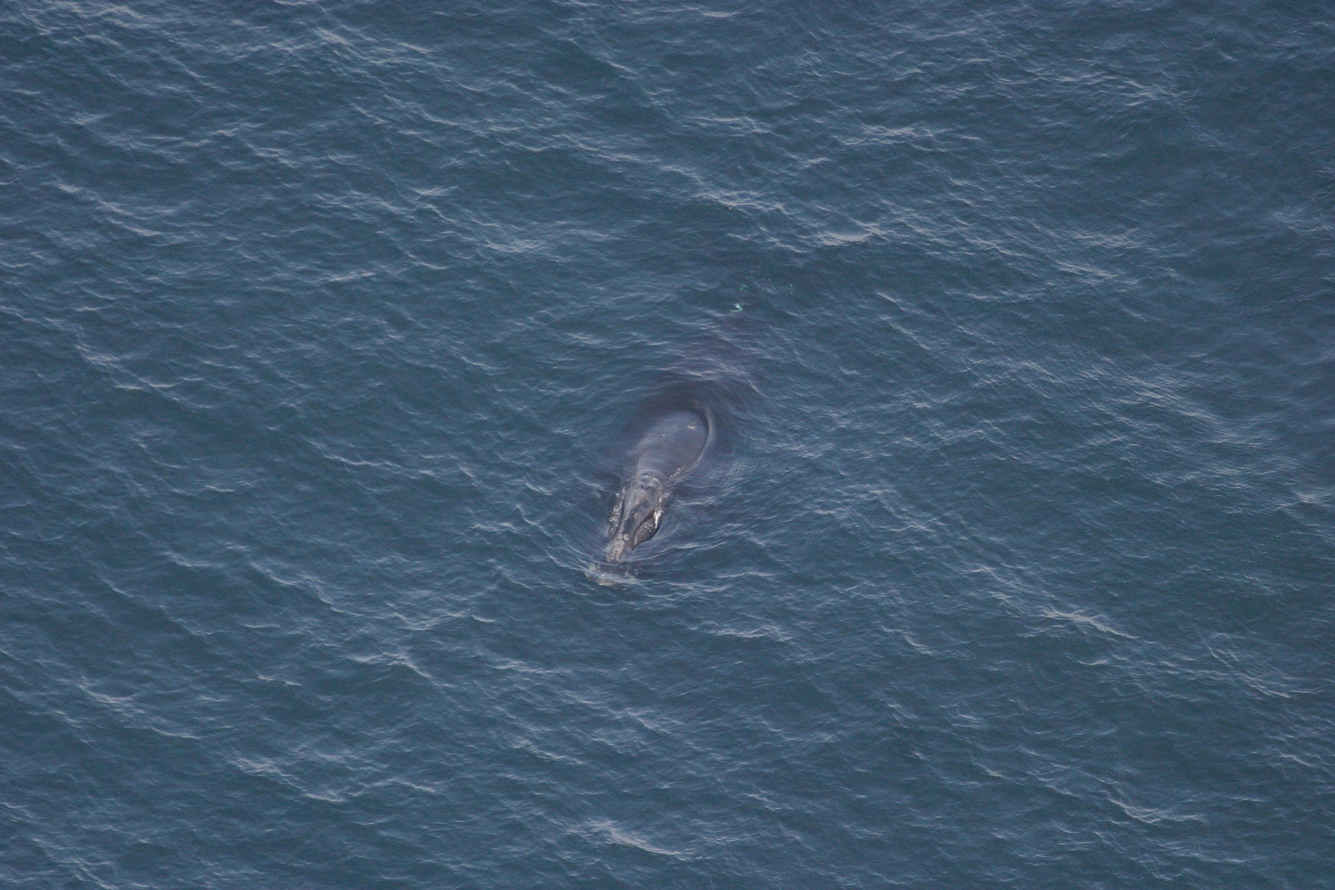whale: (583, 224, 805, 606)
